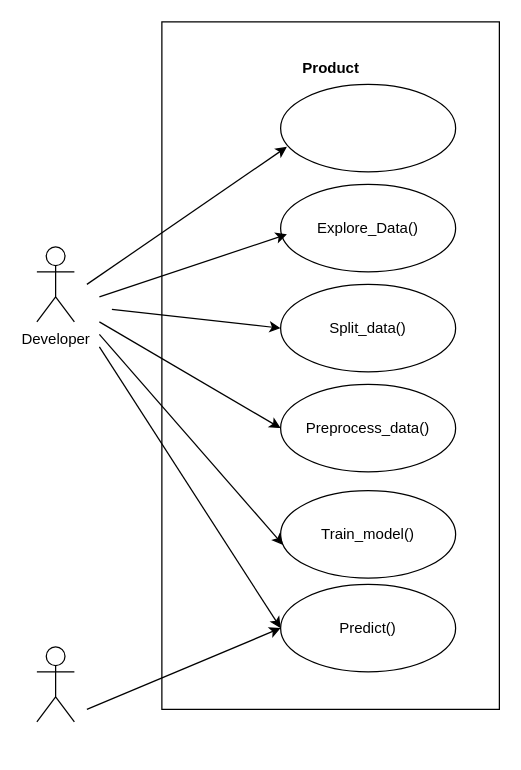
Image size: 521x770. Some labels were removed from this diagram. The centre of each missing label's shape, as x and y in pixels:
Client: [55,684]
Load_data(): [367,127]
